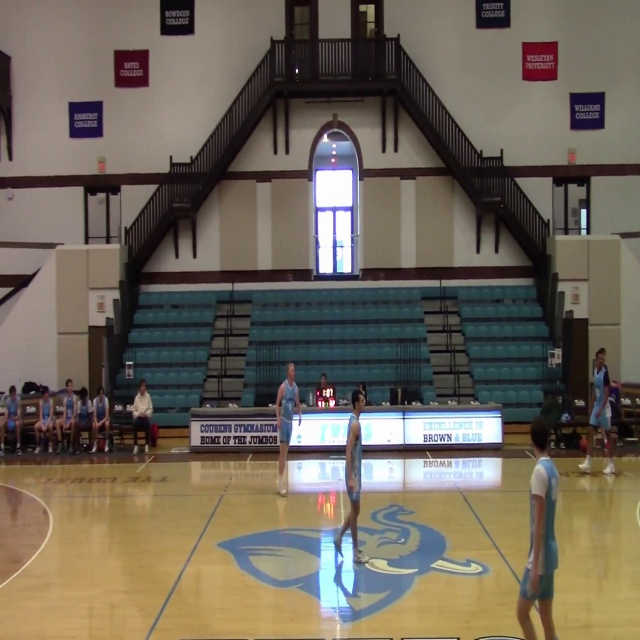Basketball: (579, 437, 588, 450)
